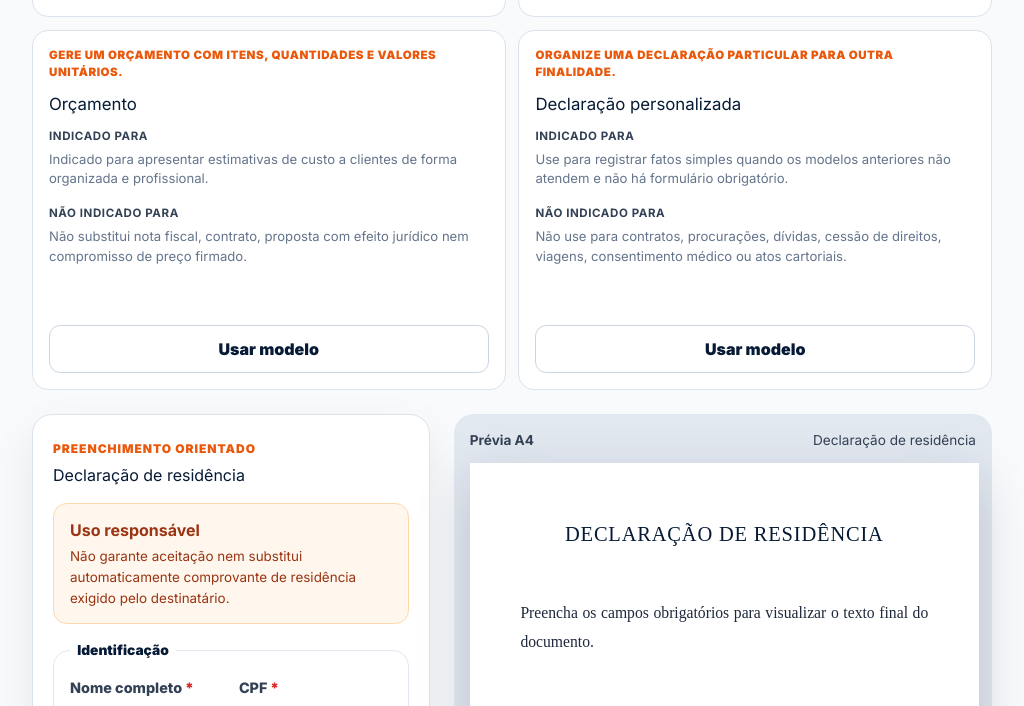
Scenario: DeclarationBuilderTool › shows quote item fields and add-item button when selecting Orçamento
This screenshot has width=1024, height=706.
(page scrolled)
What coordinates should you click on to do the following:
click the 3rd button "Usar modelo"
I would click on:
 (269, 349)
Its box is 49,325 -> 489,373.
(page scrolled)
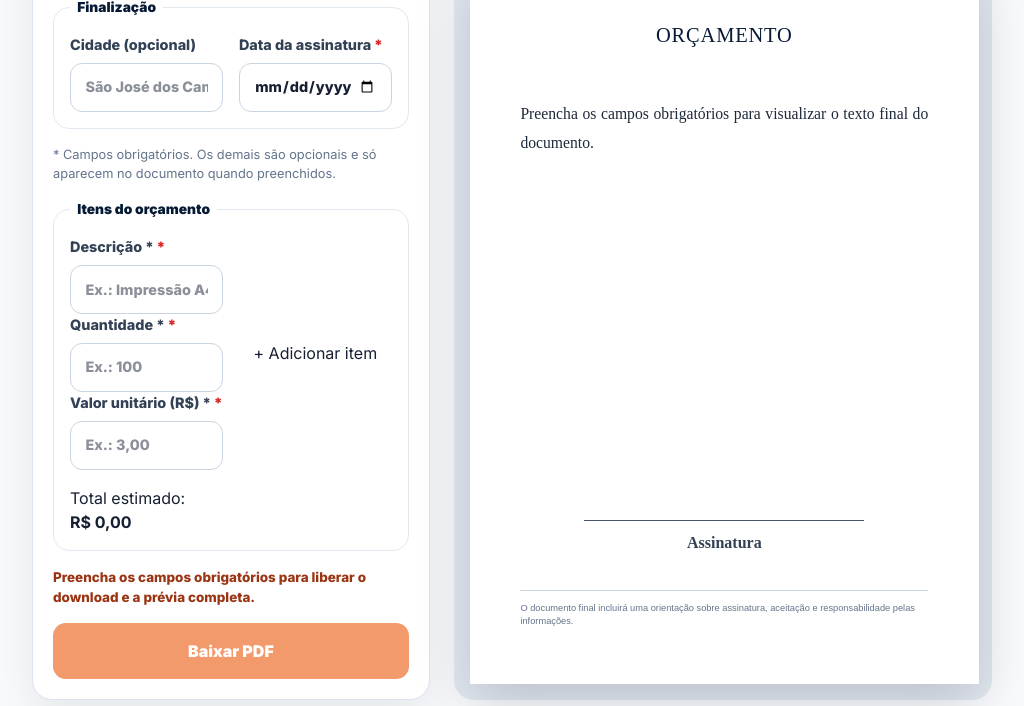
Expected: the text "Itens do orçamento" is shown, 70,199 -> 217,220
Expected: the field named "Descrição do item 1" is shown, 70,265 -> 223,314
Expected: the field named "Quantidade do item 1" is shown, 70,343 -> 223,392
